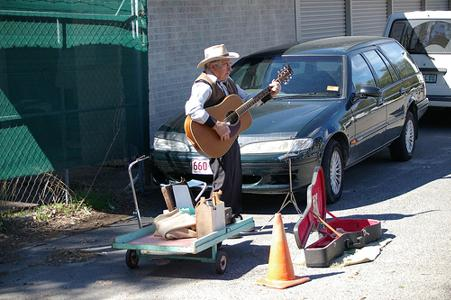person: (186, 46, 282, 218)
